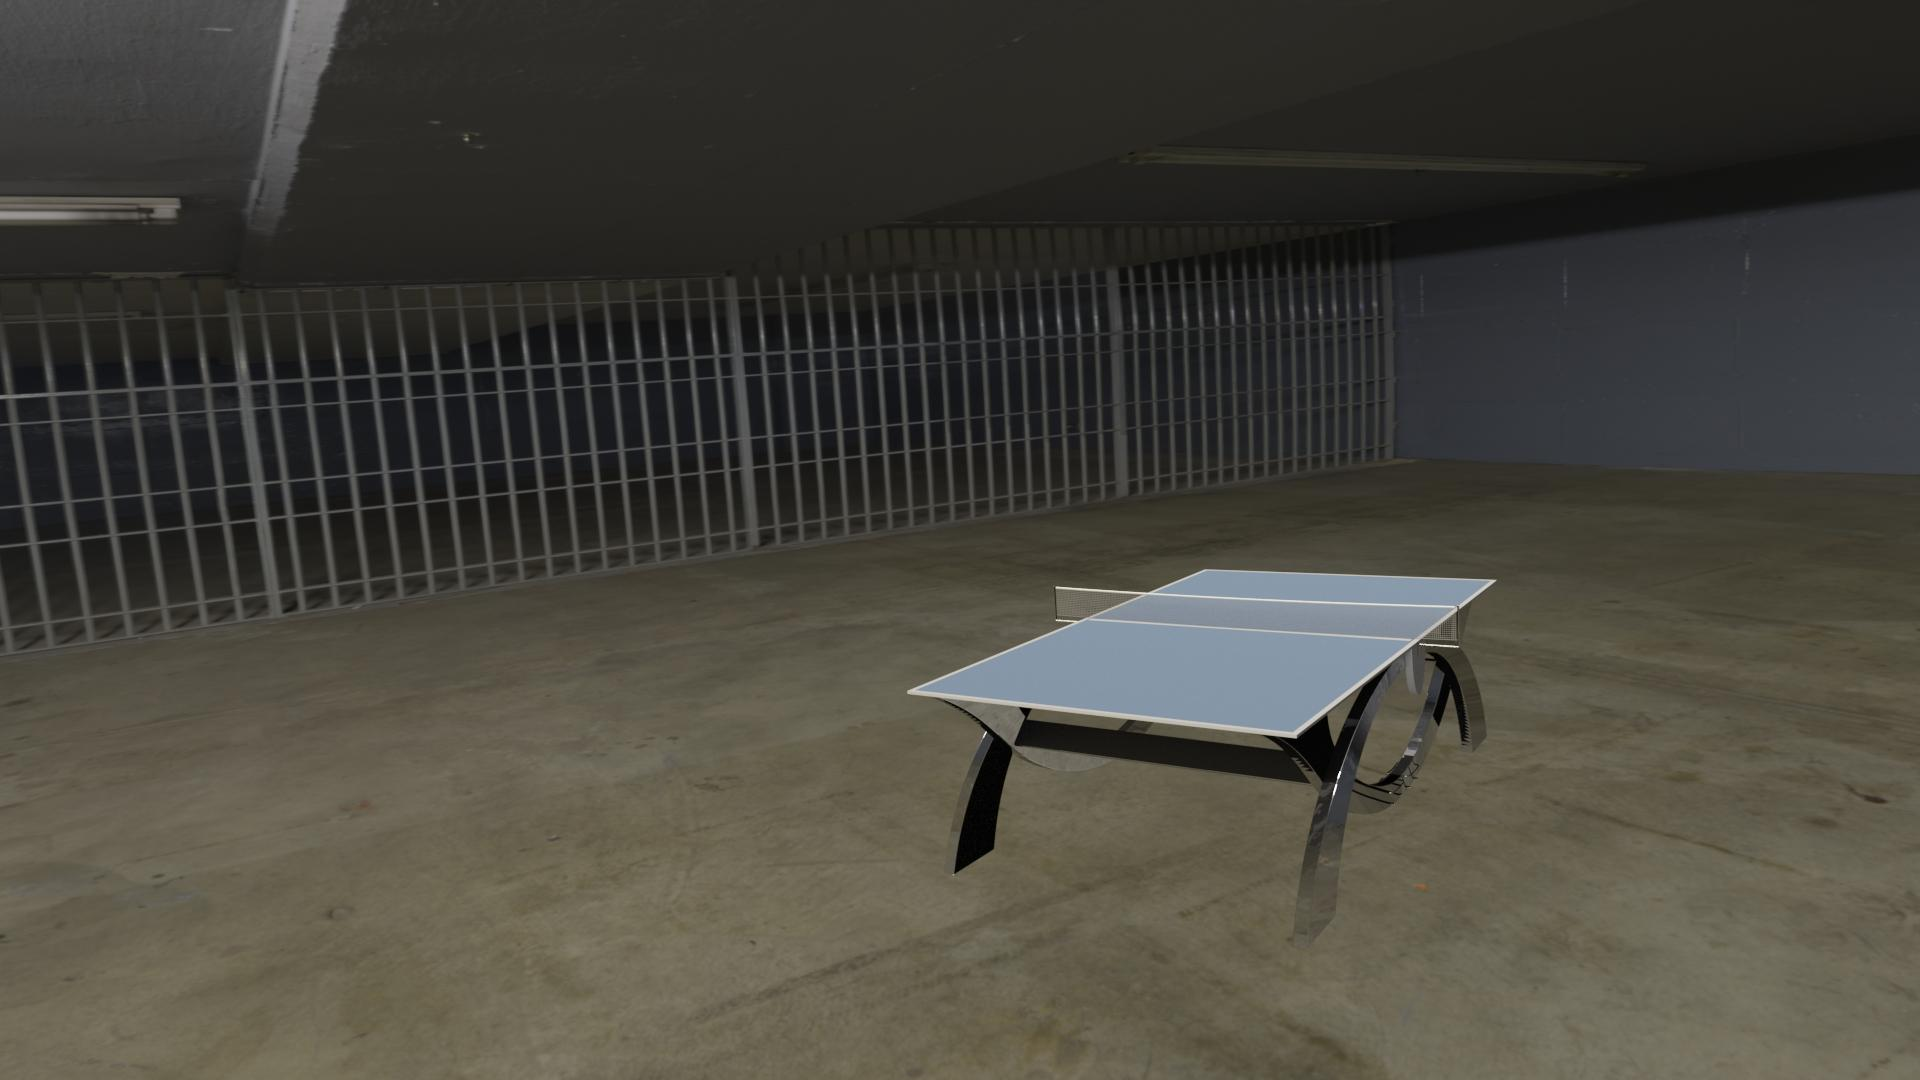table: (915, 570, 1491, 732)
